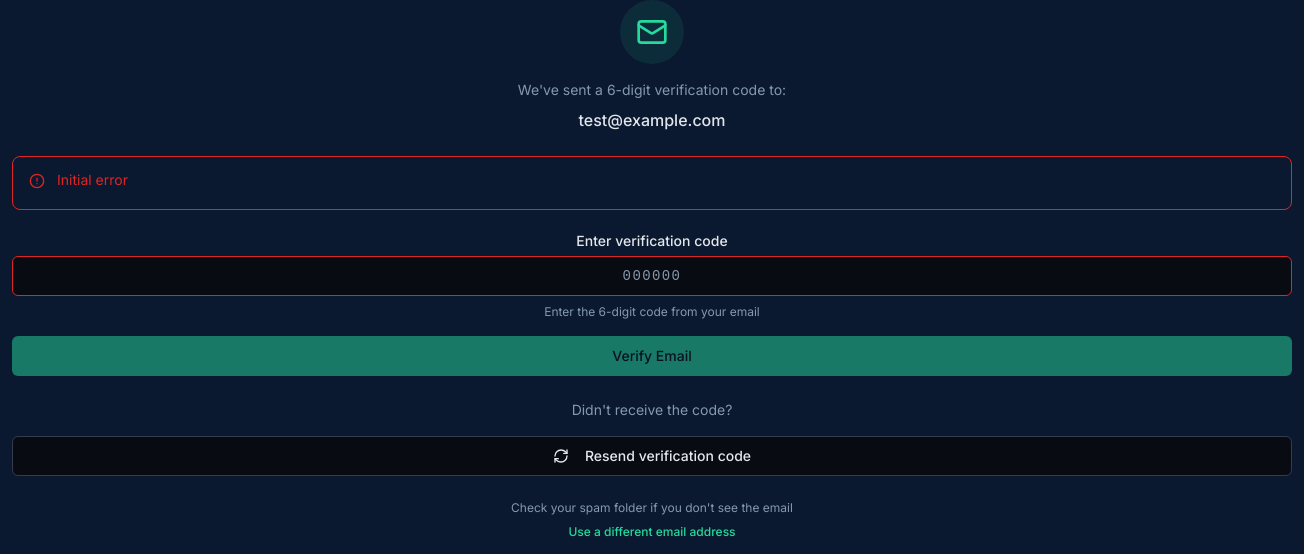
Test: EmailVerificationForm › Code Input Validation › should clear error when user starts typing
Expected: the text "Initial error" is shown, [57,171,128,188]
Type "1" into the field labelled "Enter verification code".
click(652, 276); type("1")  # box [12,256,1292,296]
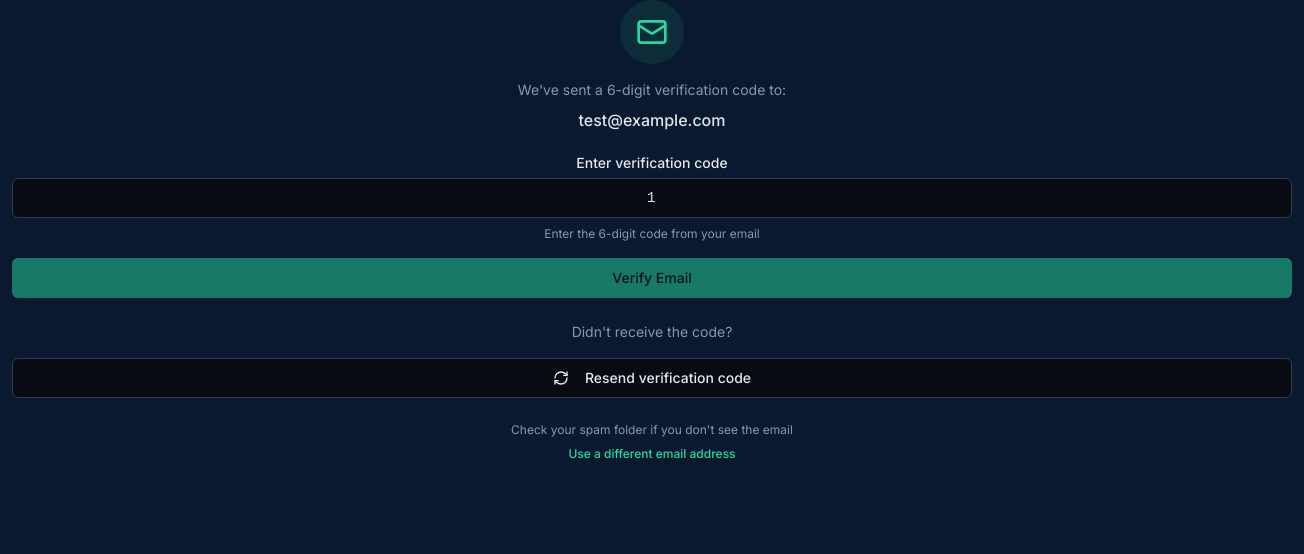
Expected: the text "Initial error" is gone
